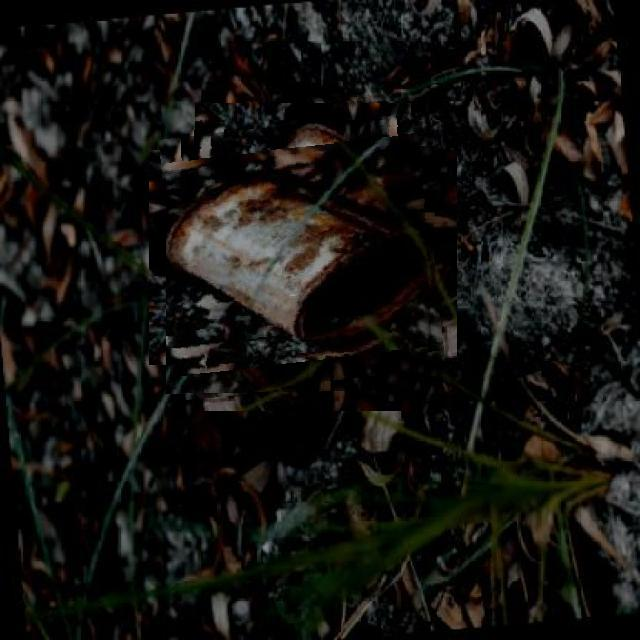recyclable: (166, 120, 440, 394)
